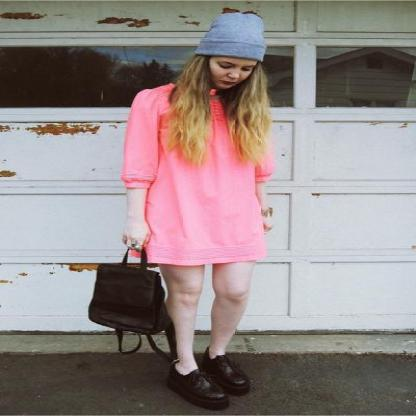bag: (87, 246, 175, 340)
hat: (193, 12, 266, 60)
shirt: (120, 83, 276, 272)
shoe: (166, 352, 250, 415)
